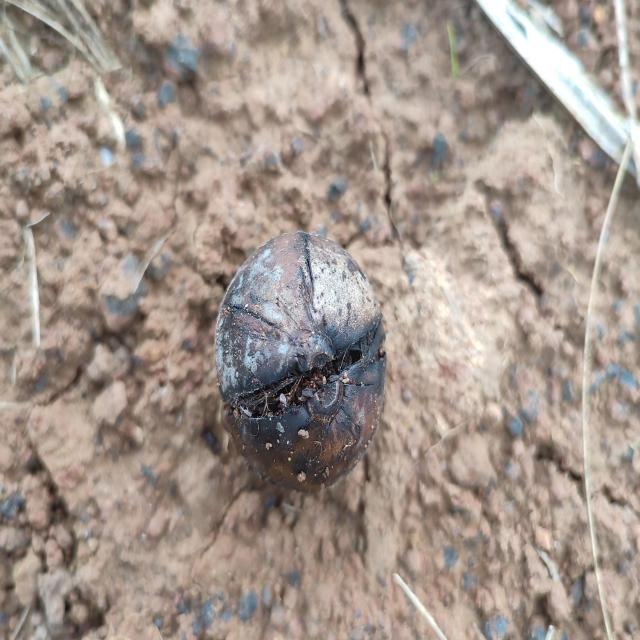damaged: (213, 230, 387, 491)
